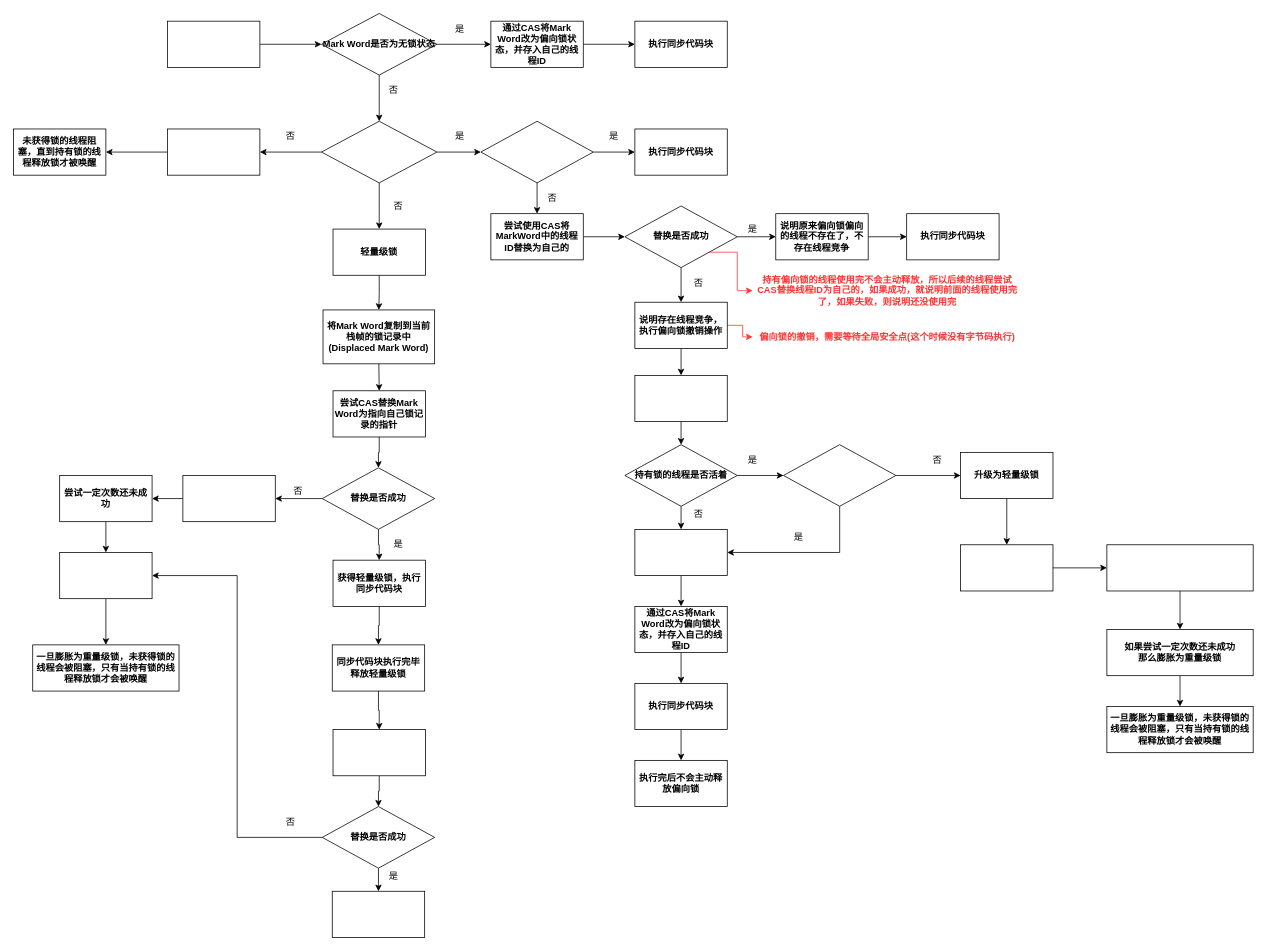
Some shapes in this 1267 by 951 pixel diagram are drawn without their labels. Each missing label, with the box of its shape:
Mark Word是否为偏向锁: (321, 121, 437, 183)
将Mark Word设置为无锁状态: (634, 529, 727, 576)
尝试CAS将锁记录中的Displaced Mark Word替换回对象头的Mark Word中: (332, 729, 425, 776)
成功释放轻量级锁: (331, 891, 425, 937)
持有锁的线程是否执行完同步代码块: (783, 444, 896, 506)
持有锁的线程继续执行: (960, 544, 1053, 591)
暂停持有偏向锁的线程: (634, 375, 727, 422)
未持有锁的线程会自旋获得锁（不断尝试CAS修改Mark Word为指向自己锁记录的指针）: (1106, 544, 1253, 591)
检查Mark Word中的线程ID是不是自己的: (480, 121, 593, 183)
膨胀为重量级锁: (59, 552, 152, 599)
自旋获取锁（不断尝试CAS替换）: (182, 475, 275, 522)
访问同步代码块: (167, 20, 260, 67)
重量级锁: (167, 128, 260, 175)
